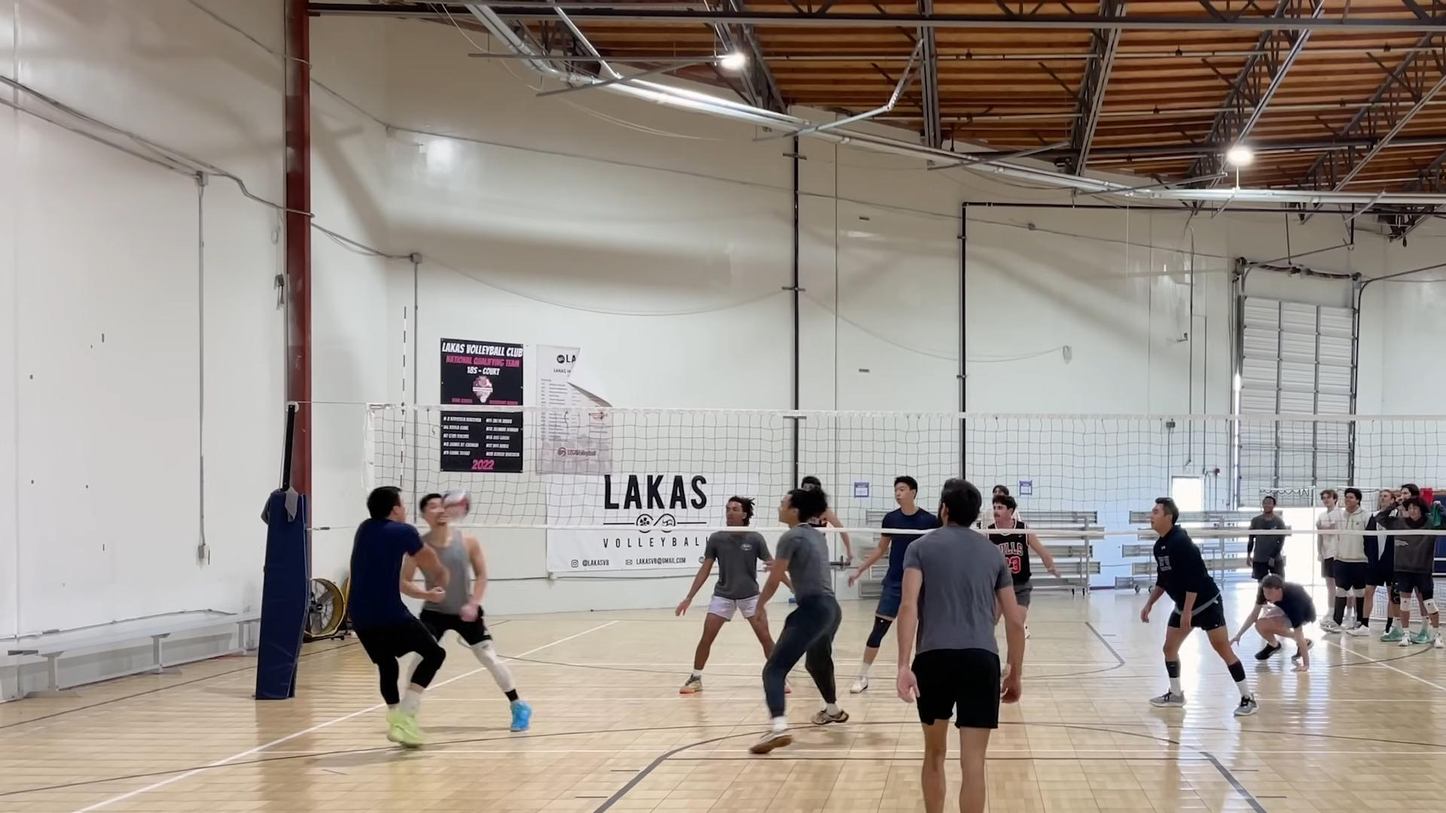ricezione: (337, 482, 451, 753)
